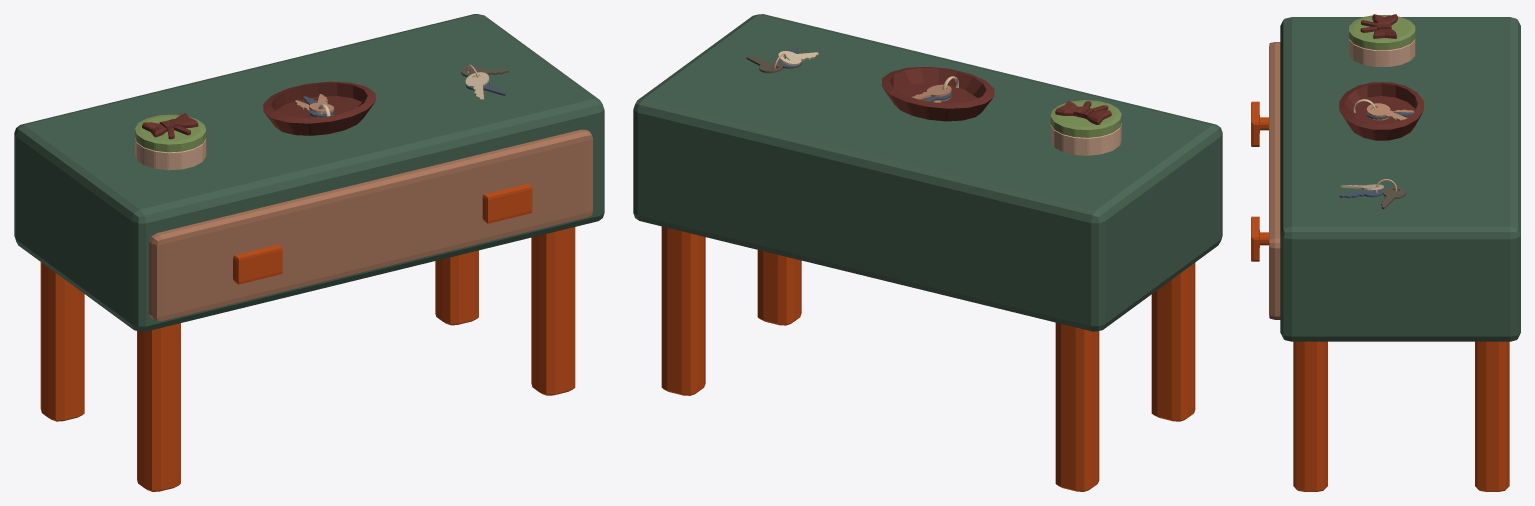
The model's file is table_entrance.fbx.
3 renders of one model, left to right at view 1: azimuth 30°, elevation 25°; view 2: azimuth 150°, elevation 25°; view 3: azimuth 270°, elevation 25°, orthographic. The views are drawn at different scales.
Parts seen in each view (by area): view 1: table_entrance, Cylinder.003, Cylinder.005, Cylinder.008, Cylinder.006, Cylinder.007; view 2: table_entrance, Cylinder.005, Cylinder.008, Cylinder.006, Cylinder.007; view 3: table_entrance, Cylinder.005, Cylinder.008, Cylinder.003, Cylinder.006, Cylinder.007, Cylinder.009, Cylinder.011, Cylinder.002.
Part boxes in pixels (x1,y1,x2,y2): table_entrance: [14, 14, 604, 331]; Cylinder.003: [149, 129, 592, 320]; Cylinder.005: [40, 183, 575, 491]; Cylinder.008: [142, 81, 375, 139]; Cylinder.006: [135, 114, 206, 152]; Cylinder.007: [135, 64, 478, 170]; table_entrance: [633, 14, 1222, 331]; Cylinder.005: [661, 226, 1195, 491]; Cylinder.008: [881, 67, 1111, 124]; Cylinder.006: [1050, 100, 1121, 137]; Cylinder.007: [773, 53, 1121, 155]; table_entrance: [1280, 17, 1520, 341]; Cylinder.005: [1251, 101, 1509, 491]; Cylinder.008: [1339, 14, 1423, 140]; Cylinder.003: [1269, 42, 1280, 319]; Cylinder.006: [1349, 15, 1415, 50]; Cylinder.007: [1349, 39, 1415, 192]; Cylinder.009: [1366, 103, 1414, 121]; Cylinder.011: [1339, 111, 1413, 198]; Cylinder.002: [1381, 187, 1405, 209].
Bounding box in the file's own units: 124 × 81.05 × 65.08.
